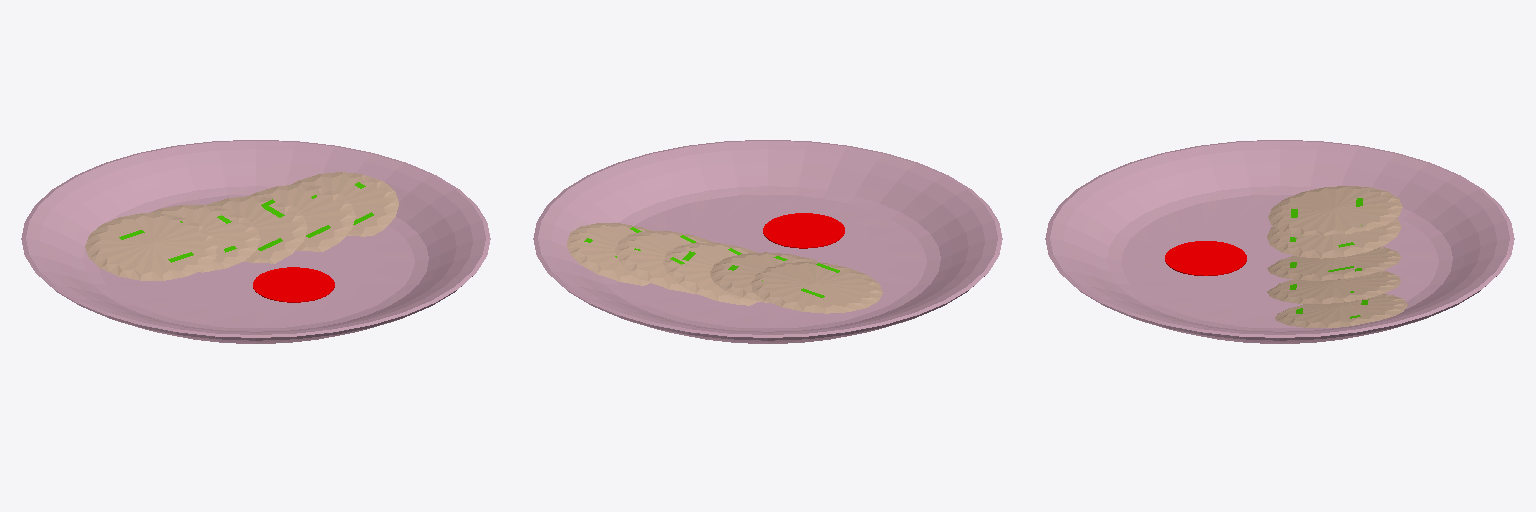
The model's file is cireng.obj.
3 views of the same model, side by side, from view 1: azimuth 30°, elevation 25°; view 2: azimuth 150°, elevation 25°; view 3: azimuth 270°, elevation 25° (orthographic).
Visible parts, largest first — view 1: Cylinder, Cylinder.005_Cylinder.014, Cylinder.001, Cylinder.002_Cylinder.010, Cylinder.003_Cylinder.004, Cylinder.004_Cylinder.011, Cylinder.006_Cylinder.015; view 2: Cylinder, Cylinder.005_Cylinder.014, Cylinder.002_Cylinder.010, Cylinder.003_Cylinder.004, Cylinder.001, Cylinder.006_Cylinder.015, Cylinder.004_Cylinder.011; view 3: Cylinder, Cylinder.005_Cylinder.014, Cylinder.001, Cylinder.003_Cylinder.004, Cylinder.004_Cylinder.011, Cylinder.002_Cylinder.010, Cylinder.006_Cylinder.015.
Part boxes in pixels (left/top/right/bottom): Cylinder: left=21, top=140, right=490, bottom=343; Cylinder.005_Cylinder.014: left=85, top=213, right=217, bottom=280; Cylinder.001: left=250, top=184, right=355, bottom=251; Cylinder.002_Cylinder.010: left=207, top=196, right=307, bottom=263; Cylinder.003_Cylinder.004: left=291, top=172, right=398, bottom=236; Cylinder.004_Cylinder.011: left=151, top=205, right=260, bottom=272; Cylinder.006_Cylinder.015: left=253, top=267, right=334, bottom=302; Cylinder: left=533, top=140, right=1002, bottom=343; Cylinder.005_Cylinder.014: left=750, top=262, right=882, bottom=313; Cylinder.002_Cylinder.010: left=663, top=242, right=759, bottom=305; Cylinder.003_Cylinder.004: left=567, top=223, right=651, bottom=285; Cylinder.001: left=615, top=231, right=713, bottom=293; Cylinder.006_Cylinder.015: left=763, top=213, right=844, bottom=248; Cylinder.004_Cylinder.011: left=710, top=252, right=820, bottom=302; Cylinder: left=1045, top=140, right=1514, bottom=343; Cylinder.005_Cylinder.014: left=1268, top=186, right=1402, bottom=235; Cylinder.001: left=1267, top=271, right=1400, bottom=303; Cylinder.003_Cylinder.004: left=1275, top=294, right=1407, bottom=327; Cylinder.004_Cylinder.011: left=1267, top=218, right=1401, bottom=258; Cylinder.002_Cylinder.010: left=1267, top=247, right=1401, bottom=280; Cylinder.006_Cylinder.015: left=1165, top=241, right=1246, bottom=275.
Size of the model in its own units: 2.31 by 0.1971 by 2.31.